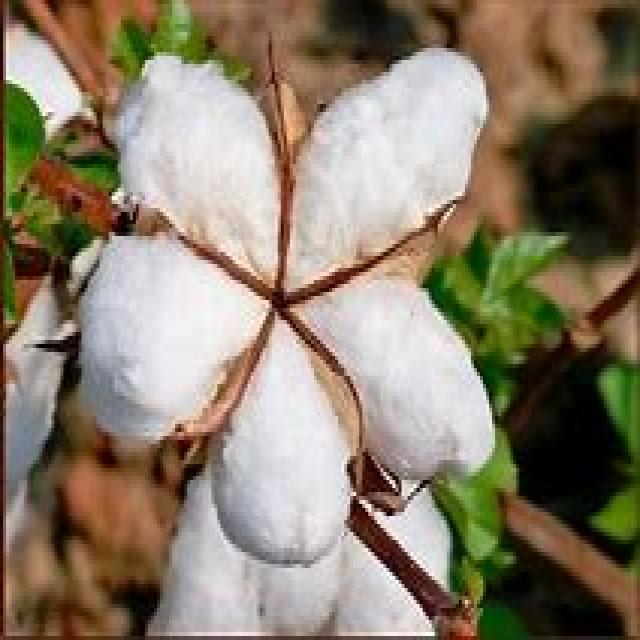Matured Cotton Boll: (81, 44, 495, 570), (148, 460, 450, 640)
